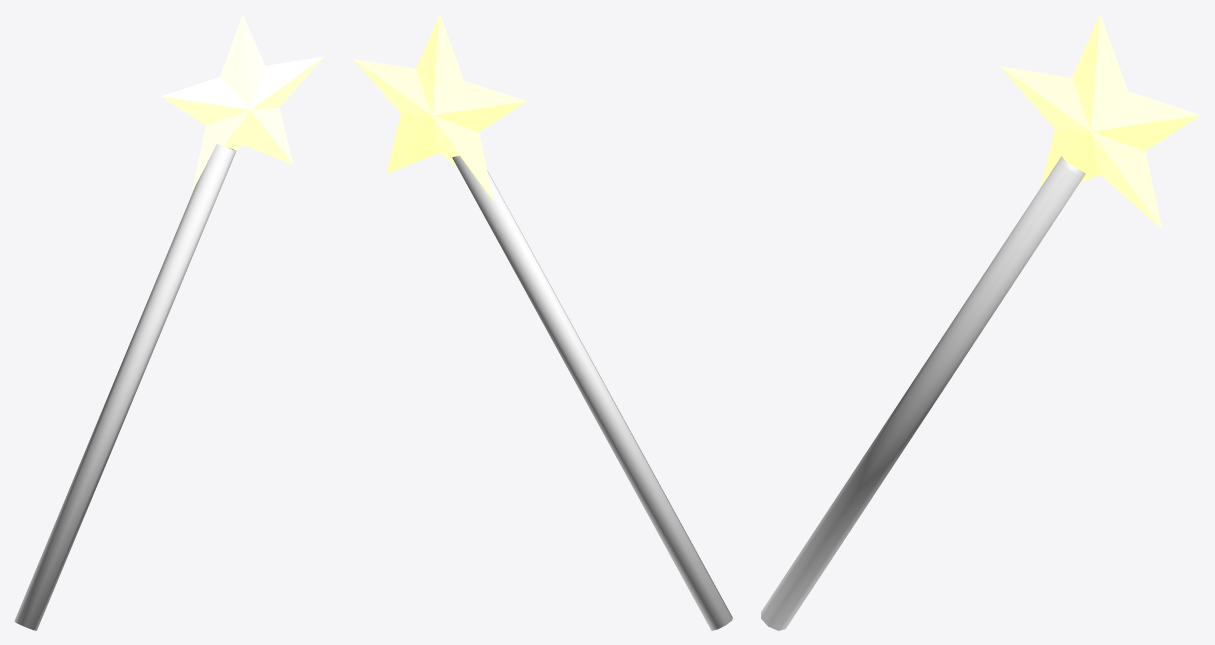
File: wand_star.glb
The picture shows the model from 3 angles, left to right: view 1: azimuth 30°, elevation 25°; view 2: azimuth 150°, elevation 25°; view 3: azimuth 330°, elevation 25°; orthographic projection. The views are drawn at different scales.
Parts seen in each view (by area): view 1: wand_star; view 2: wand_star; view 3: wand_star.
Part boxes in pixels (<box>): wand_star: <box>14,14,324,630</box>; wand_star: <box>353,14,732,630</box>; wand_star: <box>761,14,1200,630</box>.
Size of the model in its own units: 0.2508 by 0.3894 by 0.05.
